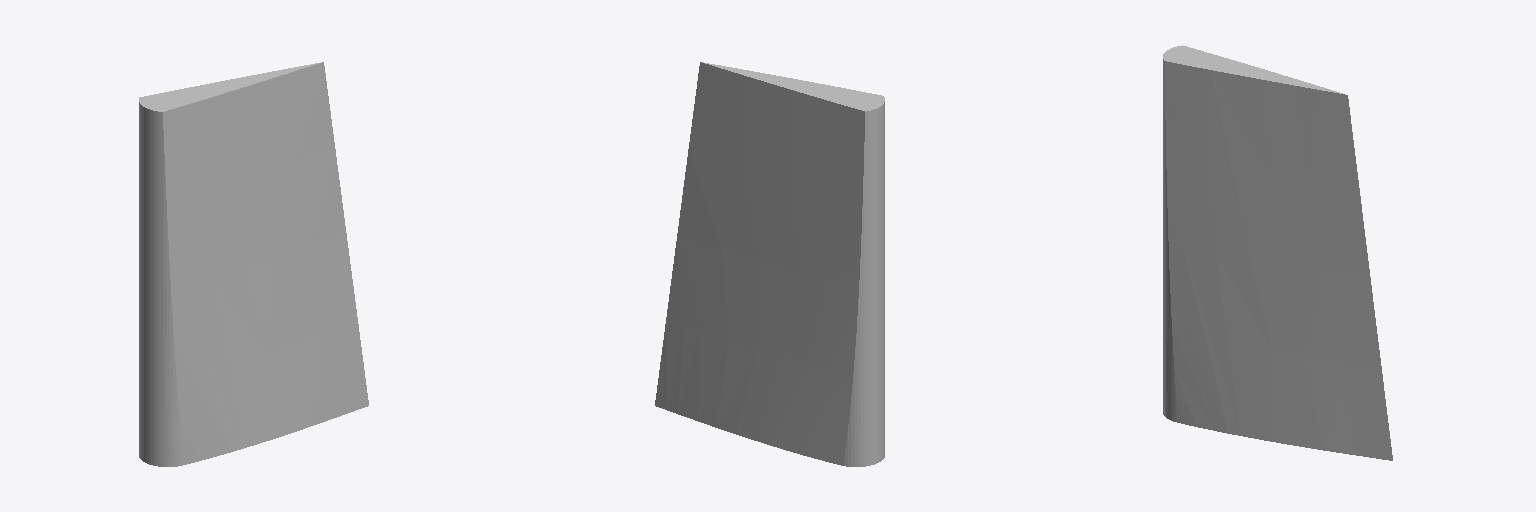
Rendered from Aelieron.obj.
3 renders of one model, left to right at view 1: azimuth 30°, elevation 25°; view 2: azimuth 150°, elevation 25°; view 3: azimuth 330°, elevation 25°, orthographic.
Parts seen in each view (by area): view 1: mesh3, mesh1, mesh4; view 2: mesh2, mesh1, mesh4; view 3: mesh3, mesh1, mesh4.
Boxes of the visible parts, x1=… form: mesh3: x1=163, y1=62, x2=368, y2=465; mesh1: x1=139, y1=102, x2=181, y2=466; mesh4: x1=139, y1=62, x2=321, y2=111; mesh2: x1=655, y1=62, x2=864, y2=465; mesh1: x1=842, y1=102, x2=884, y2=466; mesh4: x1=702, y1=62, x2=884, y2=111; mesh3: x1=1165, y1=61, x2=1392, y2=460; mesh1: x1=1163, y1=59, x2=1176, y2=421; mesh4: x1=1163, y1=45, x2=1345, y2=94.
Bounding box in the file's own units: 0.0787 × 0.118 × 0.0175.